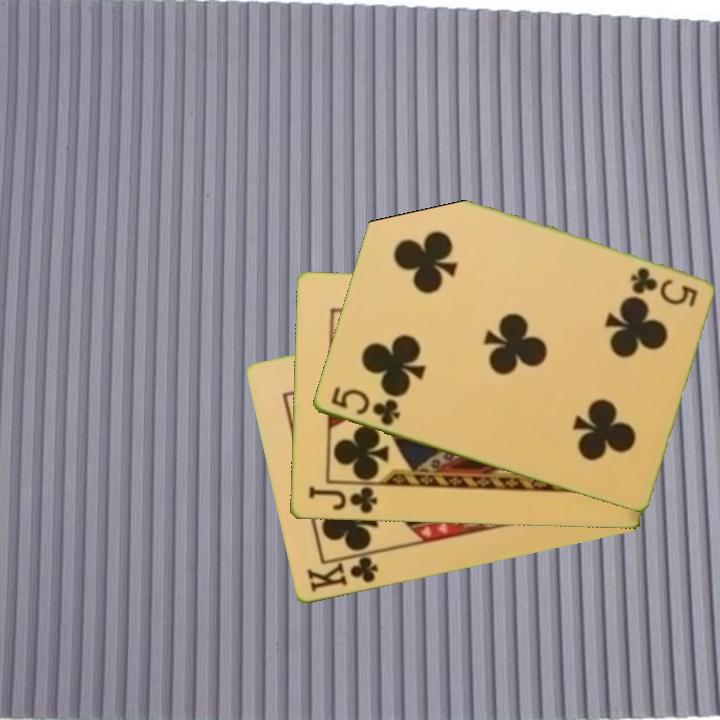5c: (327, 383, 403, 429), (626, 264, 700, 310)
Jc: (304, 483, 380, 517)
Kc: (303, 549, 382, 596)
